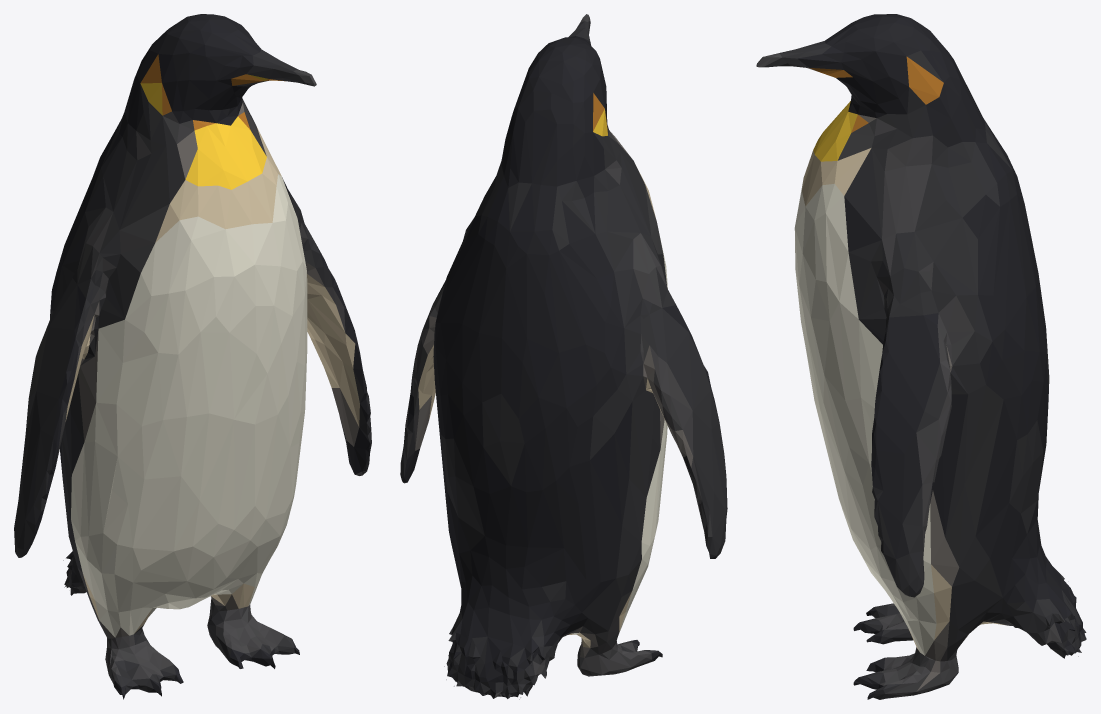
Rendered from low-poly-penguin.glb.
3 views of the same model, side by side, from view 1: azimuth 30°, elevation 25°; view 2: azimuth 150°, elevation 25°; view 3: azimuth 270°, elevation 25° (orthographic). The views are drawn at different scales.
Parts seen in each view (by area): view 1: low-poly-penguin; view 2: low-poly-penguin; view 3: low-poly-penguin.
Boxes of the visible parts, x1,y1,x2,y2 form: low-poly-penguin: [14, 14, 371, 699]; low-poly-penguin: [400, 14, 727, 699]; low-poly-penguin: [756, 14, 1086, 699].
Size of the model in its own units: 0.6405 by 1.15 by 0.5347.
Materials: 1 (1 with a texture image).
